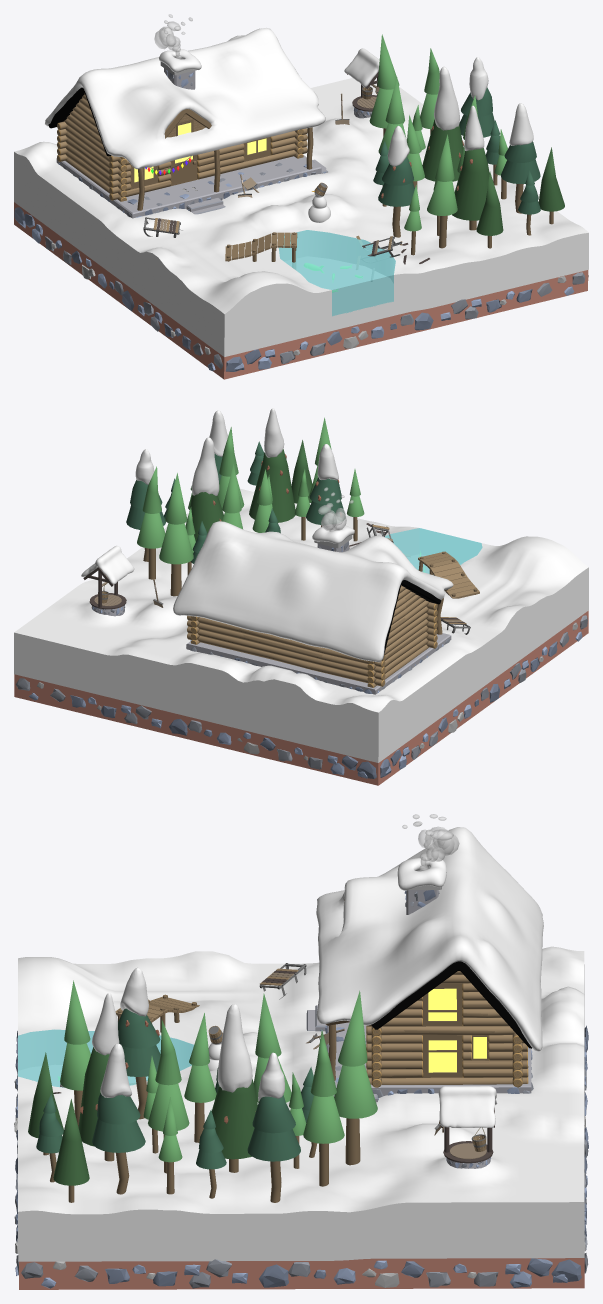
The model's file is winter_country_house.glb.
The picture shows the model from 3 angles, top to bottom: view 1: azimuth 30°, elevation 25°; view 2: azimuth 150°, elevation 25°; view 3: azimuth 270°, elevation 25°; orthographic projection. The views are drawn at different scales.
Visible parts, largest first — view 1: polySurface472, Snow1, polySurface327, Walls, Ice, pCube64, Trees:pCone13polySurface328, Trees:pCone23polySurface330, polySurface521, polySurface369, polySurface335, polySurface517 (+18 smaller); view 2: polySurface472, Snow1, polySurface327, Walls, pCube64, Ice, Trees:pCone13polySurface328, polySurface521, polySurface334, Trees:pCone23polySurface330, polySurface517, polySurface343 (+10 smaller); view 3: polySurface472, Snow1, polySurface327, Walls, Ice, Trees:pCone23polySurface330, polySurface517, polySurface521, polySurface334, pCube2, polySurface335, Trees:pCone13polySurface328 (+27 smaller).
Boxes of the visible parts, x1,y1,x2,y2 form: polySurface472: (14, 78, 588, 356); Snow1: (45, 27, 325, 169); polySurface327: (14, 202, 588, 379); Walls: (57, 93, 307, 201); Ice: (278, 230, 395, 316); pCube64: (56, 155, 321, 218); Trees:pCone13polySurface328: (452, 148, 489, 220); Trees:pCone23polySurface330: (422, 119, 463, 181); polySurface521: (434, 66, 459, 130); polySurface369: (476, 171, 503, 235); polySurface335: (538, 147, 564, 211); polySurface517: (344, 48, 396, 87); polySurface472: (14, 488, 588, 762); Snow1: (173, 521, 453, 662); polySurface327: (14, 610, 588, 785); Walls: (187, 585, 437, 687); pCube64: (186, 633, 451, 694); Ice: (385, 528, 482, 573); Trees:pCone13polySurface328: (249, 449, 295, 522); polySurface521: (191, 437, 219, 495); polySurface334: (159, 523, 193, 564); Trees:pCone23polySurface330: (189, 492, 223, 541); polySurface517: (81, 545, 134, 584); polySurface343: (137, 512, 165, 548); polySurface472: (18, 946, 584, 1261); Snow1: (316, 827, 543, 1051); polySurface327: (19, 1258, 584, 1289); Walls: (366, 971, 528, 1087); Ice: (18, 1029, 193, 1087); Trees:pCone23polySurface330: (211, 1079, 257, 1159); polySurface517: (438, 1086, 497, 1127); polySurface521: (217, 1004, 252, 1092); polySurface334: (334, 1064, 377, 1118); pCube2: (371, 961, 531, 1048); polySurface335: (53, 1099, 89, 1185); Trees:pCone13polySurface328: (78, 1047, 109, 1146).
Size of the model in its own units: 27.28 by 15.85 by 27.19.
